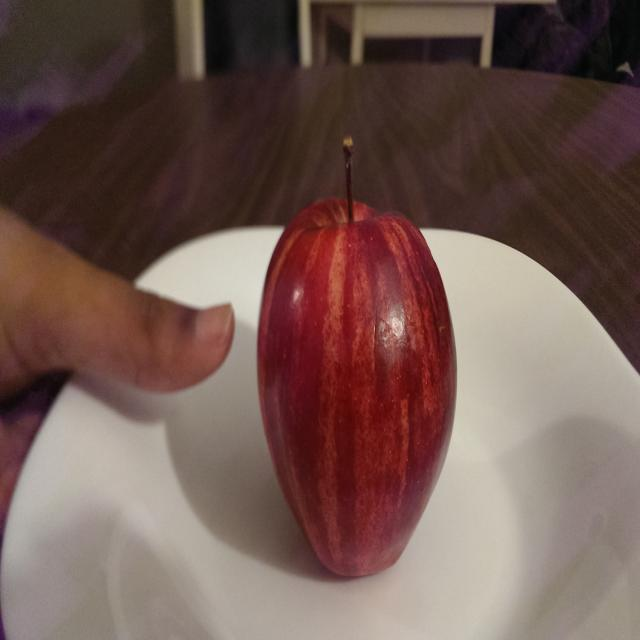apple: (244, 134, 472, 591)
